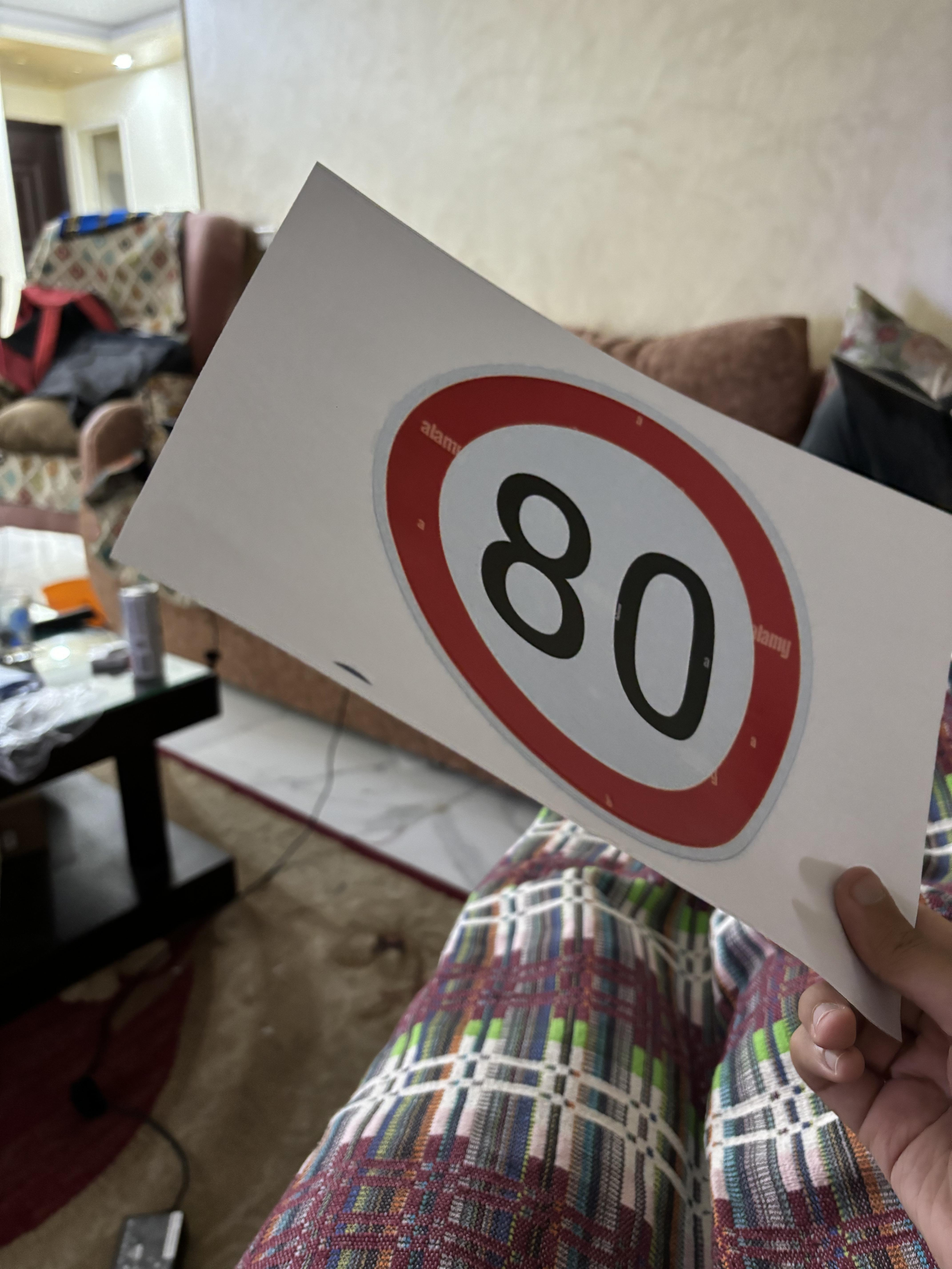80-Speed: (352, 354, 820, 865)
